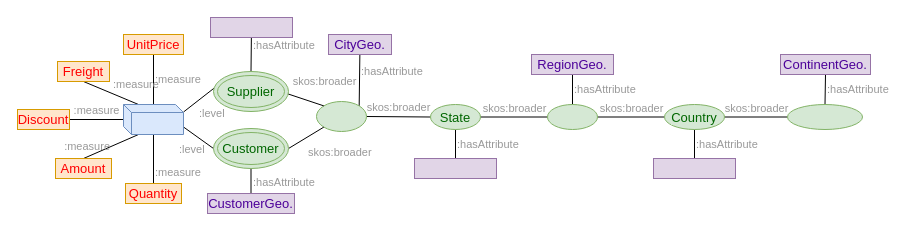
The diagram is 907 pixels wide and 231 high, and some of its shapes have lost their labels. The centre of each missing label's shape, as x and y in pixels:
"City" goes at pixel 341 116.
"Continent" goes at pixel 824 117.
"CountryGeo." goes at pixel 694 168.
"Region" goes at pixel 572 117.
"Sales" goes at pixel 153 119.
"StateGeo." goes at pixel 455 168.
"SupplierGeo." goes at pixel 251 27.
